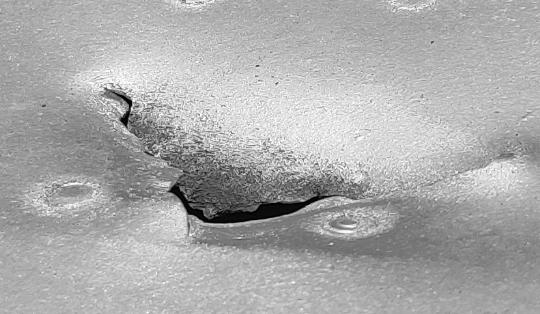crack: (0, 1, 539, 314)
